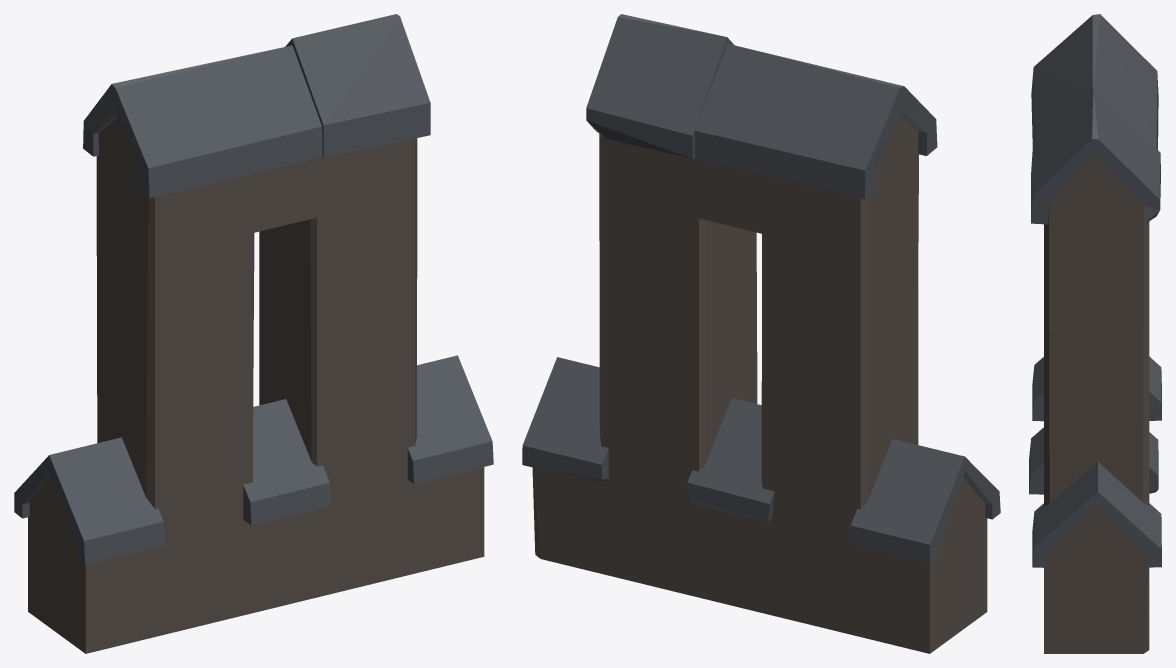
Rendered from MCastle_LargeTurrets_07.FBX.
The picture shows the model from 3 angles, left to right: view 1: azimuth 30°, elevation 25°; view 2: azimuth 150°, elevation 25°; view 3: azimuth 270°, elevation 25°; orthographic projection. The views are drawn at different scales.
Parts seen in each view (by area): view 1: MCastle_LargeTurrets_07_LOD0; view 2: MCastle_LargeTurrets_07_LOD0; view 3: MCastle_LargeTurrets_07_LOD0.
Part boxes in pixels (left/top/right/bottom): MCastle_LargeTurrets_07_LOD0: left=14, top=14, right=493, bottom=653; MCastle_LargeTurrets_07_LOD0: left=522, top=14, right=1000, bottom=653; MCastle_LargeTurrets_07_LOD0: left=1029, top=14, right=1161, bottom=653.
Size of what is drawn, in the model's own units: 4.1 by 5.17 by 1.26.
